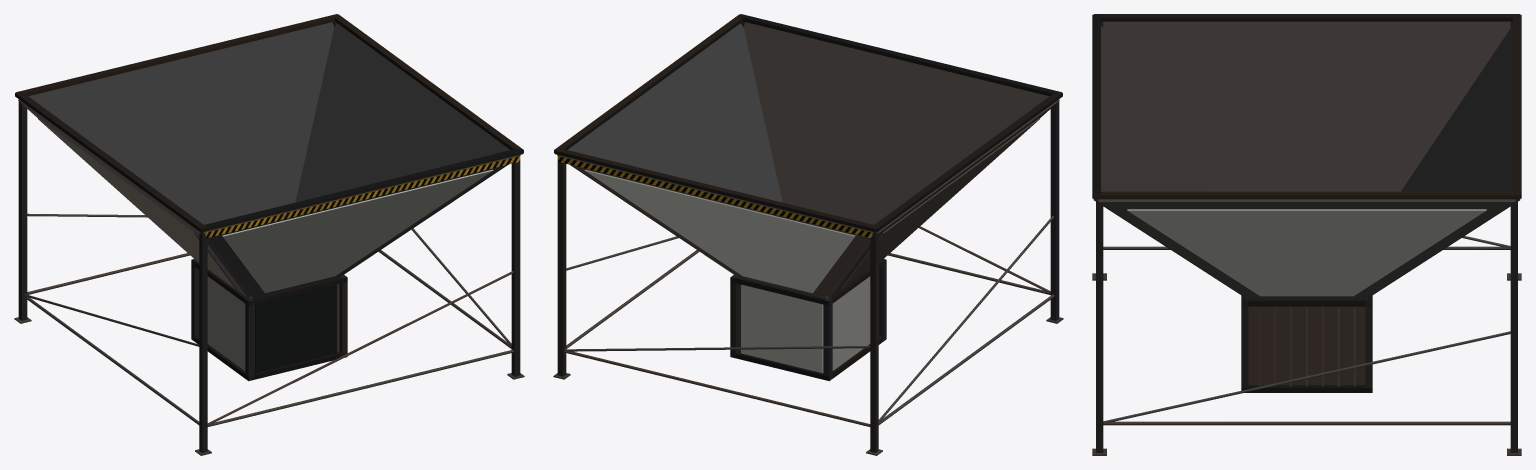
The model's file is chute_hopper_3x3.glb.
The picture shows the model from 3 angles, left to right: view 1: azimuth 30°, elevation 25°; view 2: azimuth 150°, elevation 25°; view 3: azimuth 270°, elevation 25°; orthographic projection. The views are drawn at different scales.
Parts seen in each view (by area): view 1: Frame; view 2: Frame; view 3: Frame.
Part boxes in pixels (left/top/right/bottom): Frame: left=14, top=14, right=524, bottom=455; Frame: left=553, top=14, right=1063, bottom=455; Frame: left=1092, top=14, right=1521, bottom=455.
Size of the model in its own units: 5.94 by 3.98 by 5.95.
